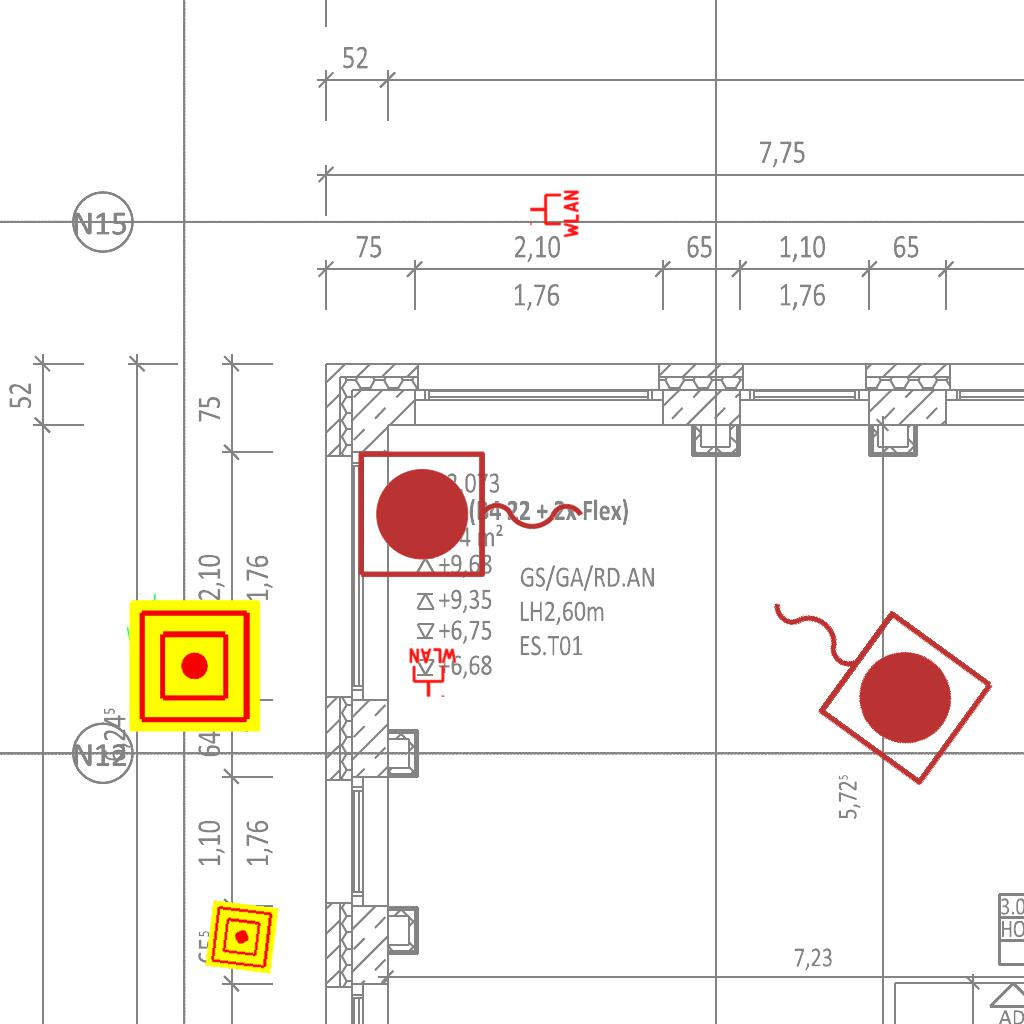NAM-Nichtautomatischer_Melder: (129, 600, 261, 732), (205, 900, 279, 974)
WLAN: (124, 592, 176, 644), (528, 188, 580, 240), (407, 647, 459, 699)
Zugtaster: (724, 537, 1008, 797), (350, 444, 594, 588)
